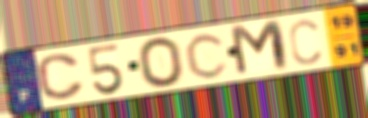5: (85, 42, 124, 97)
C: (34, 52, 87, 102), (183, 31, 231, 80), (287, 18, 324, 67)
M: (227, 17, 293, 79)
O: (135, 35, 187, 89)
